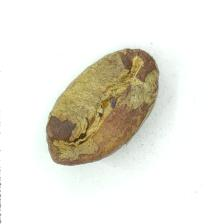NG: (56, 51, 137, 148)
